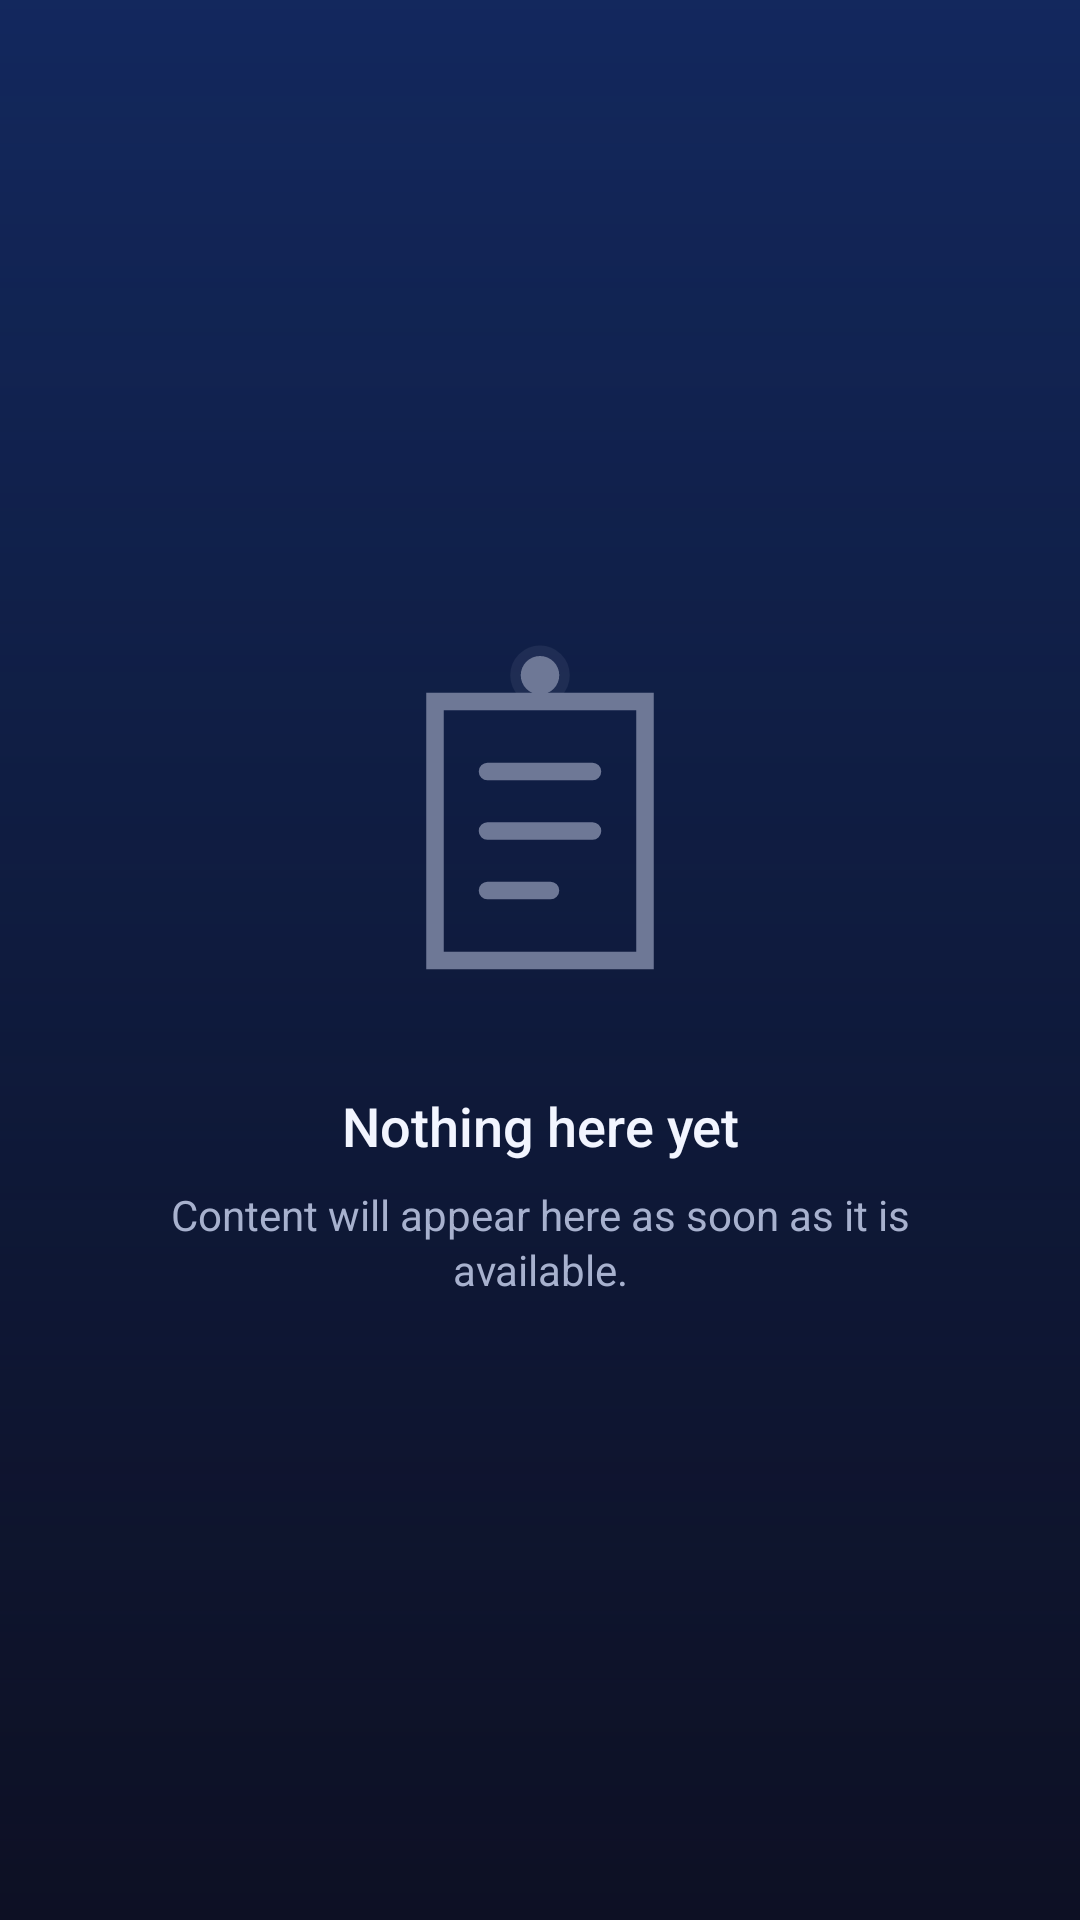

Named icons in this screenshot (1080w x 1920h) and their bounding boxes, {"x1": x1, "y1": y1, "x2": x2, "y2": y2}:
Empty state illustration: {"x1": 426, "y1": 656, "x2": 654, "y2": 969}
